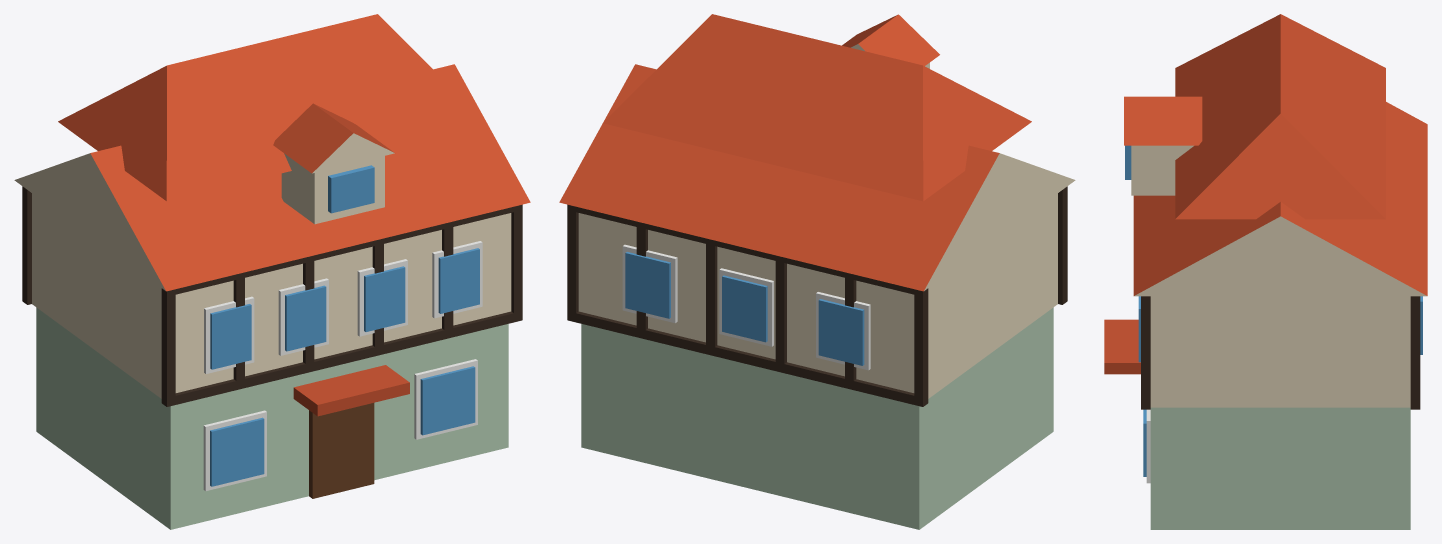
Rendered from 33_franconian_inn_3.obj.
3 renders of one model, left to right at view 1: azimuth 30°, elevation 25°; view 2: azimuth 150°, elevation 25°; view 3: azimuth 270°, elevation 25°, orthographic. The views are drawn at different scales.
Parts seen in each view (by area): view 1: 33_franconian_inn_3; view 2: 33_franconian_inn_3; view 3: 33_franconian_inn_3.
Part boxes in pixels (x1,y1,x2,y2): 33_franconian_inn_3: [14, 14, 530, 529]; 33_franconian_inn_3: [559, 14, 1075, 529]; 33_franconian_inn_3: [1104, 14, 1427, 529].
Bounding box in the file's own units: 1.66 × 1.74 × 1.32.
